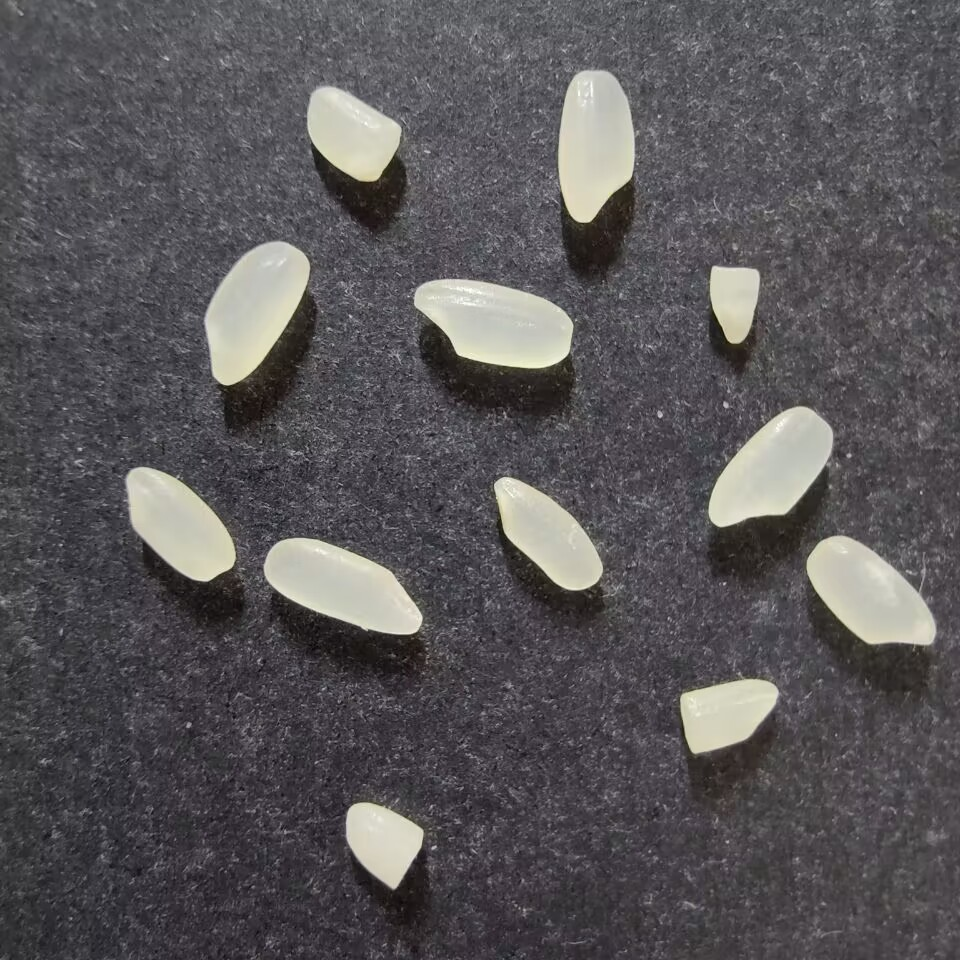broken: (306, 86, 402, 182), (678, 679, 778, 754), (344, 802, 423, 889), (708, 265, 760, 345)
rice: (202, 240, 310, 387), (263, 536, 423, 635), (707, 405, 833, 527), (804, 535, 935, 648), (412, 278, 573, 369), (125, 466, 236, 582), (493, 476, 602, 590), (556, 69, 635, 223)
